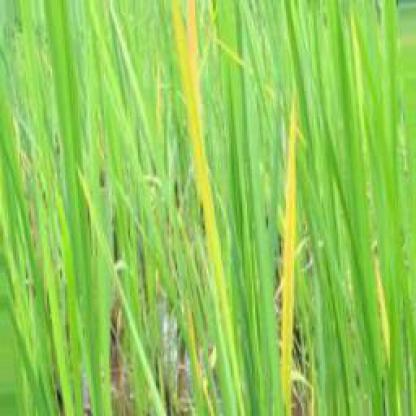Tungro: (164, 3, 250, 416), (280, 92, 305, 411)
